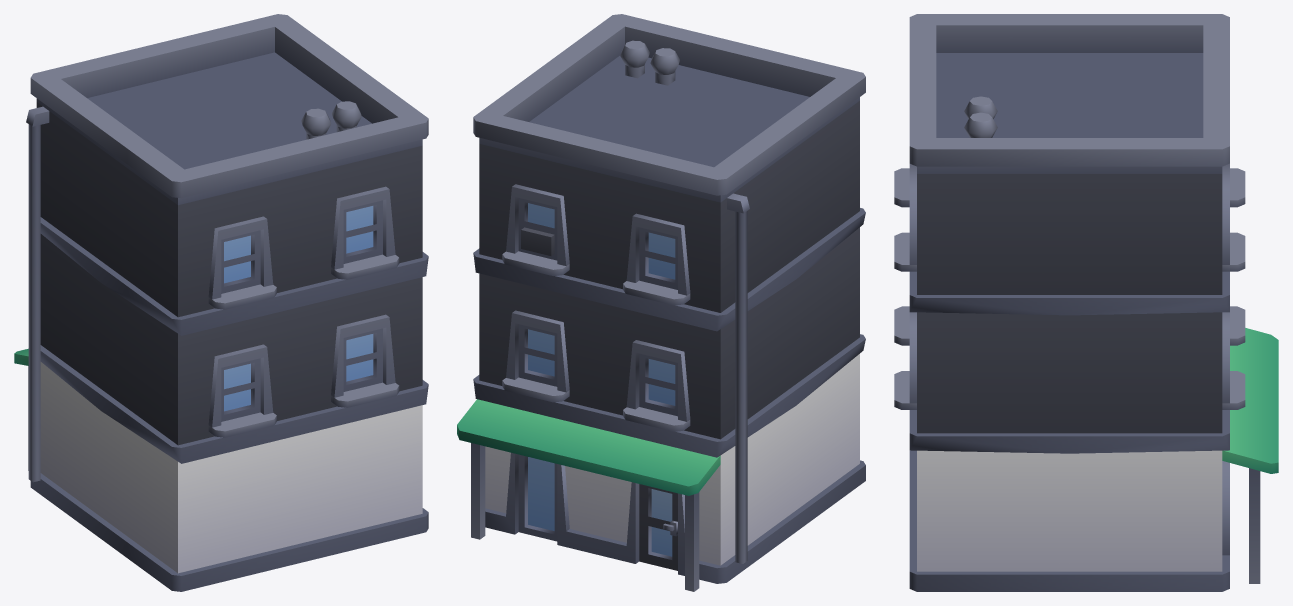
File: townhouse-h.glb
3 renders of one model, left to right at view 1: azimuth 30°, elevation 25°; view 2: azimuth 150°, elevation 25°; view 3: azimuth 270°, elevation 25°, orthographic. The views are drawn at different scales.
Parts seen in each view (by area): view 1: building-h; view 2: building-h; view 3: building-h.
Part boxes in pixels (<box>): building-h: <box>14,14,428,591</box>; building-h: <box>457,14,865,591</box>; building-h: <box>894,14,1278,591</box>.
Size of the model in its own units: 0.8759 by 1.29 by 1.01.
Materials: 1 (1 with a texture image).
